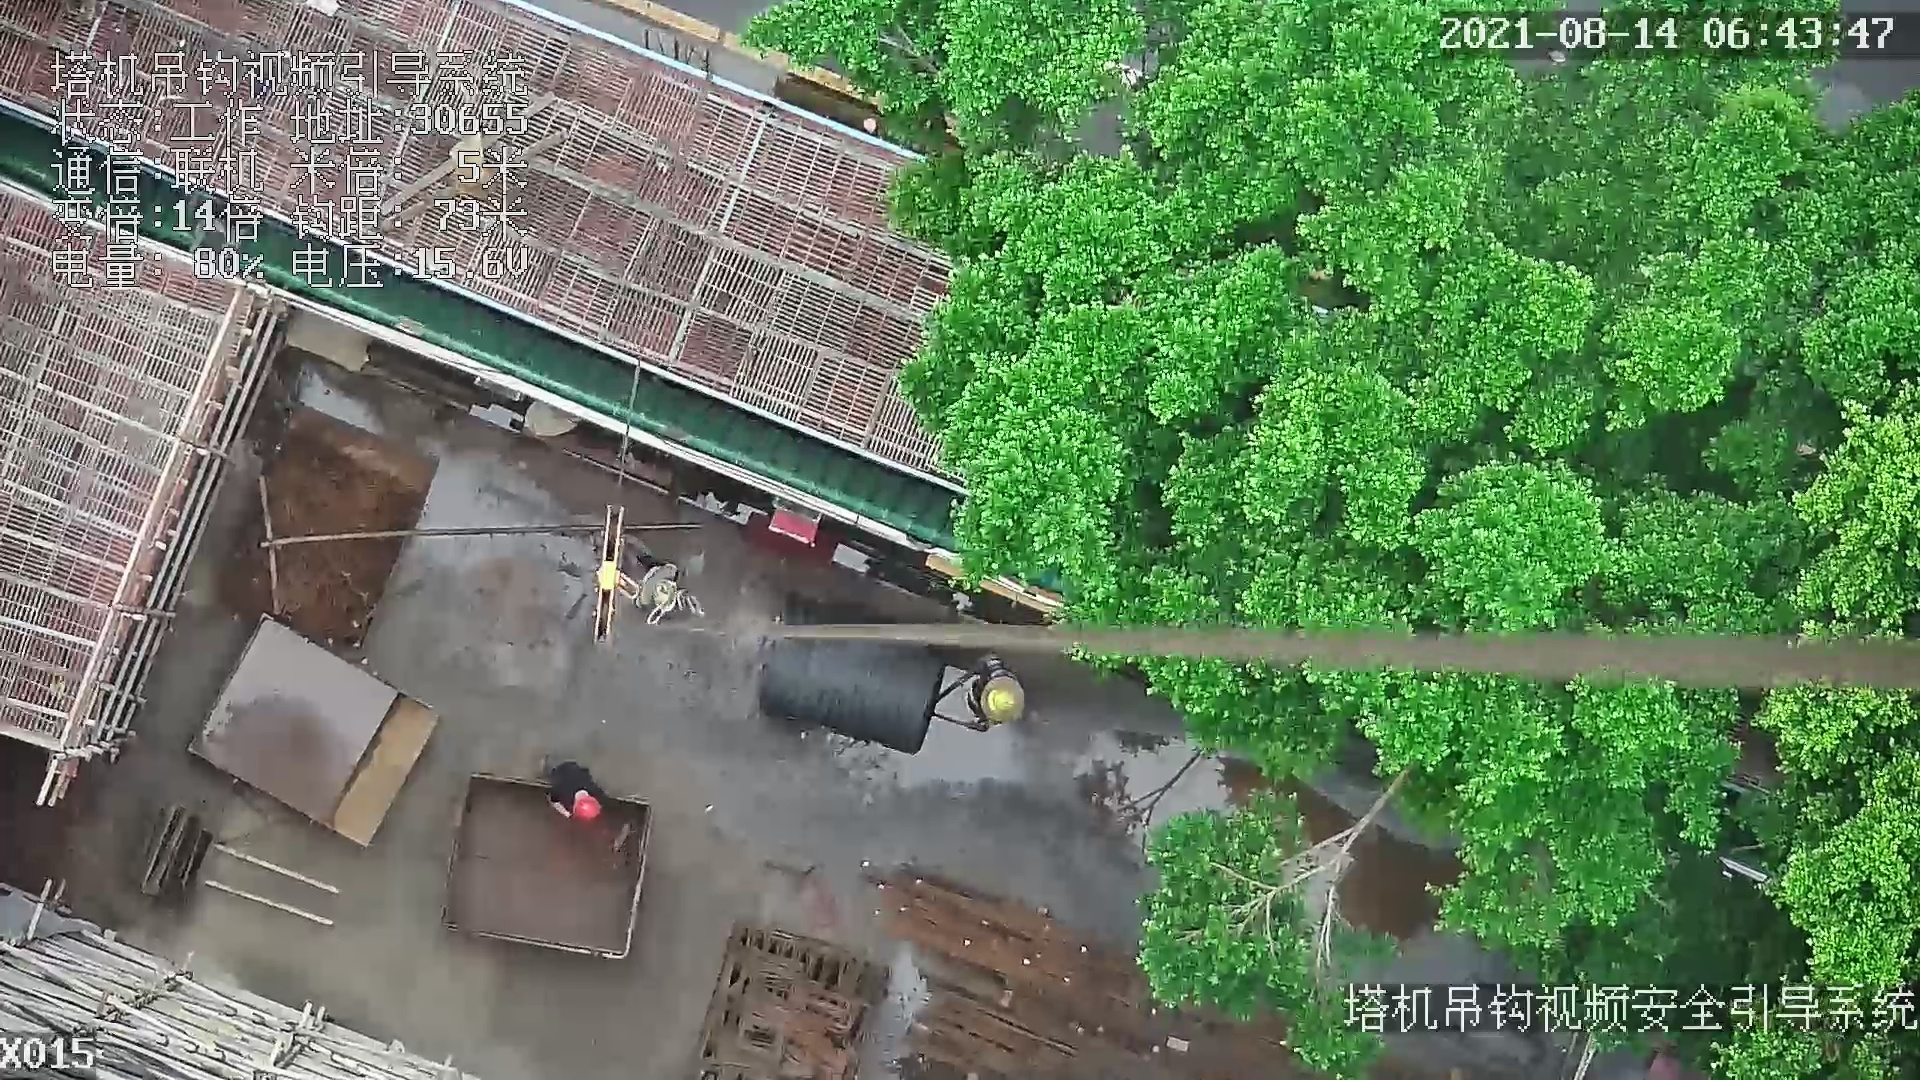helmet: (992, 691, 1017, 717), (577, 793, 604, 815)
hook: (591, 504, 641, 645)
person: (553, 758, 632, 844), (959, 651, 1028, 739), (632, 552, 697, 628)
